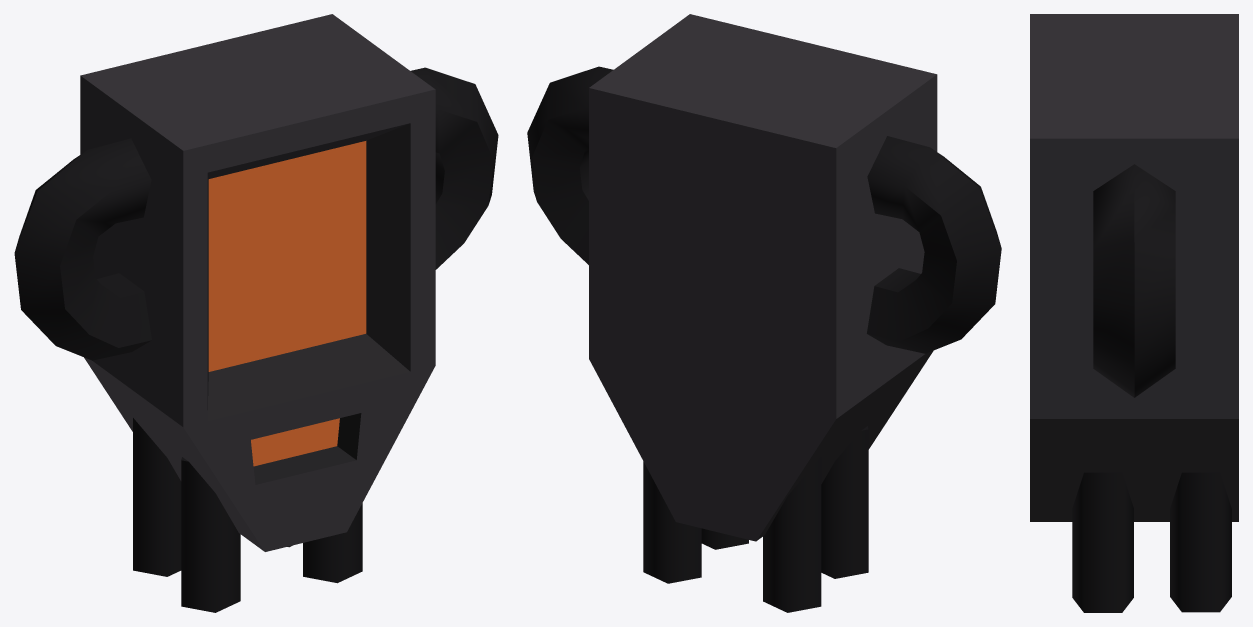
Rendered from Health_Station.fbx.
The picture shows the model from 3 angles, left to right: view 1: azimuth 30°, elevation 25°; view 2: azimuth 150°, elevation 25°; view 3: azimuth 270°, elevation 25°; orthographic projection. The views are drawn at different scales.
Visible parts, largest first — view 1: Health_Station; view 2: Health_Station; view 3: Health_Station.
Part boxes in pixels (x1,y1,x2,y2): Health_Station: (14,14,498,612); Health_Station: (527,14,1001,612); Health_Station: (1030,14,1238,612).
Size of the model in its own units: 216 by 209 by 79.72.
